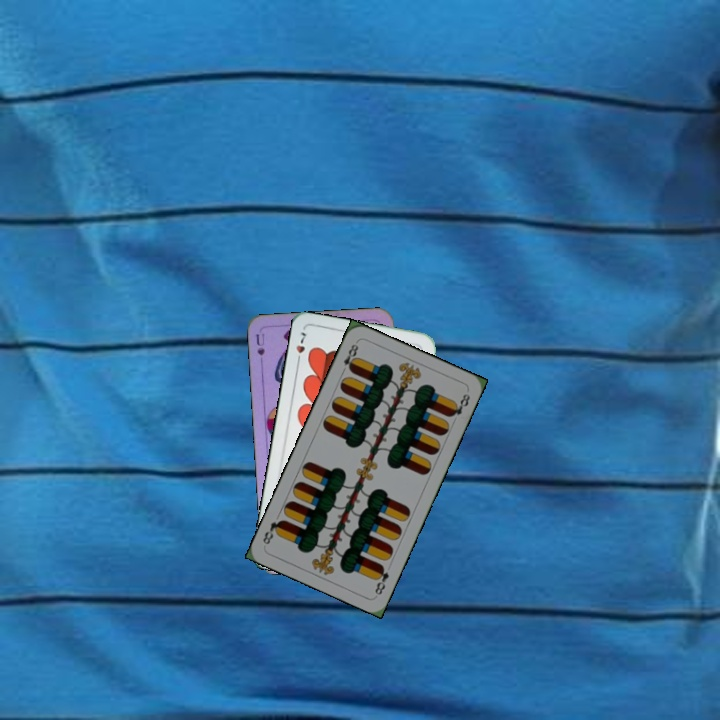E8: (337, 340, 361, 376), (371, 561, 392, 598)
H7: (292, 328, 308, 367)
SU: (252, 329, 267, 370)
